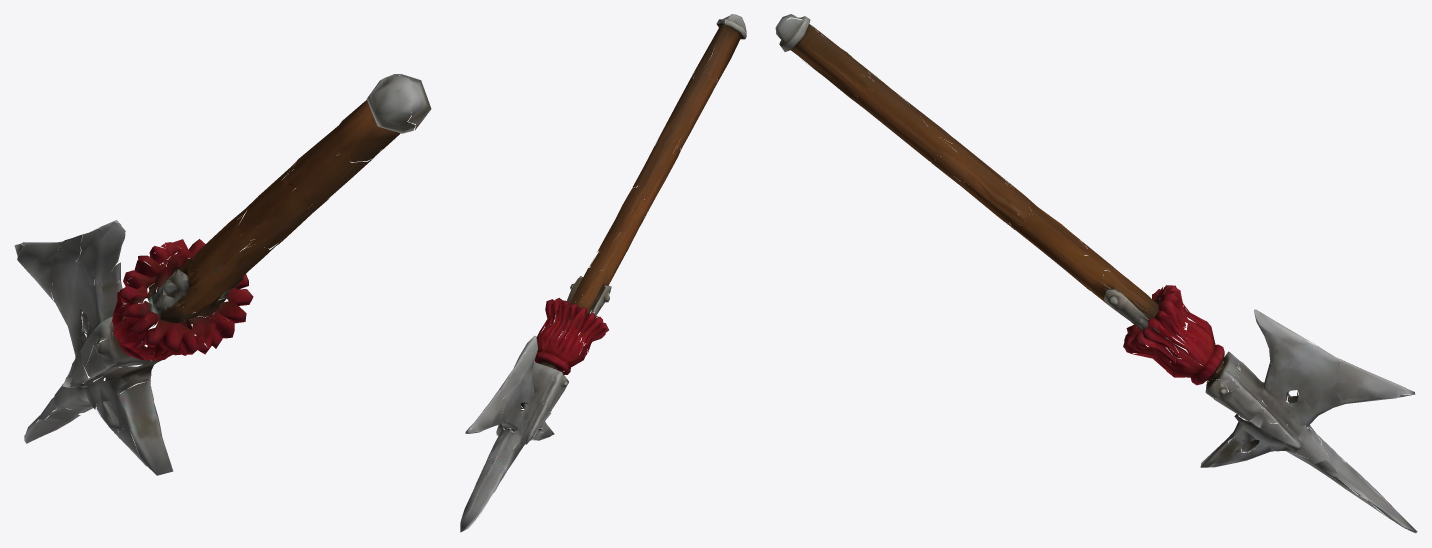
Rendered from halberd.glb.
The picture shows the model from 3 angles, left to right: view 1: azimuth 30°, elevation 25°; view 2: azimuth 150°, elevation 25°; view 3: azimuth 270°, elevation 25°; orthographic projection. The views are drawn at different scales.
Visible parts, largest first — view 1: ACC_halberd; view 2: ACC_halberd; view 3: ACC_halberd.
Boxes of the visible parts, <box> form: ACC_halberd: <box>14,74,431,475</box>; ACC_halberd: <box>460,14,746,532</box>; ACC_halberd: <box>775,14,1417,533</box>.
Size of the model in its own units: 0.1294 by 0.6488 by 0.7706.
1 material, 1 textured.
